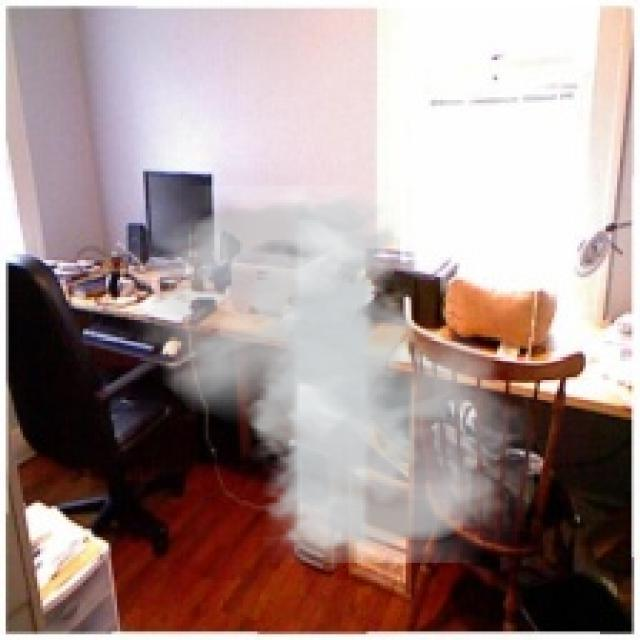Smoke: (128, 186, 534, 563)
